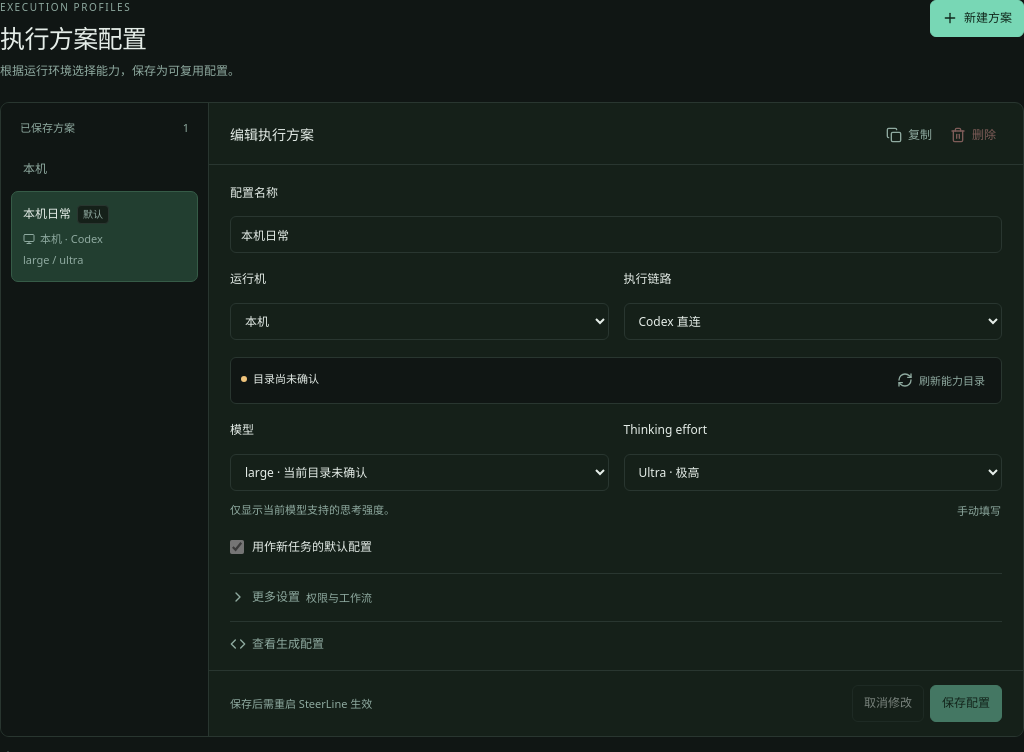
it: edits and saves without dropping advanced values, showing pending restart
Expected: the button "保存配置" is disabled, x1=930 y1=685 x2=1002 y2=722
Replace the text in the field labelled "配置名称" with "已修改" at [616, 235], box x1=230 y1=216 x2=1002 y2=253
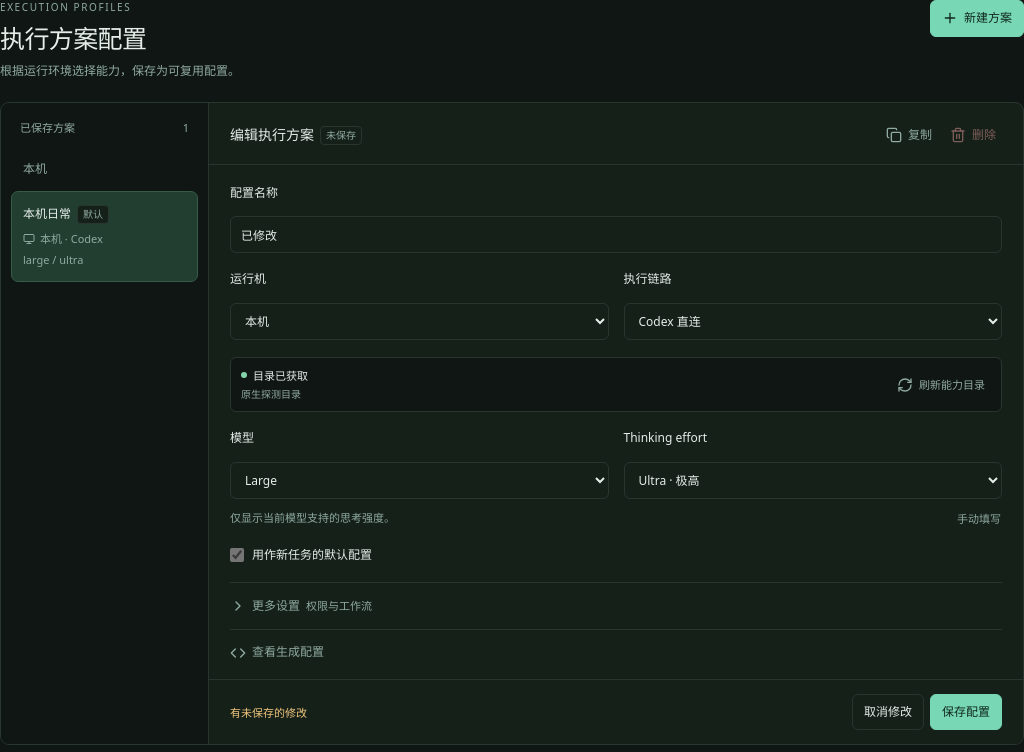
Click the button "保存配置" at [966, 712], box x1=930 y1=694 x2=1002 y2=730
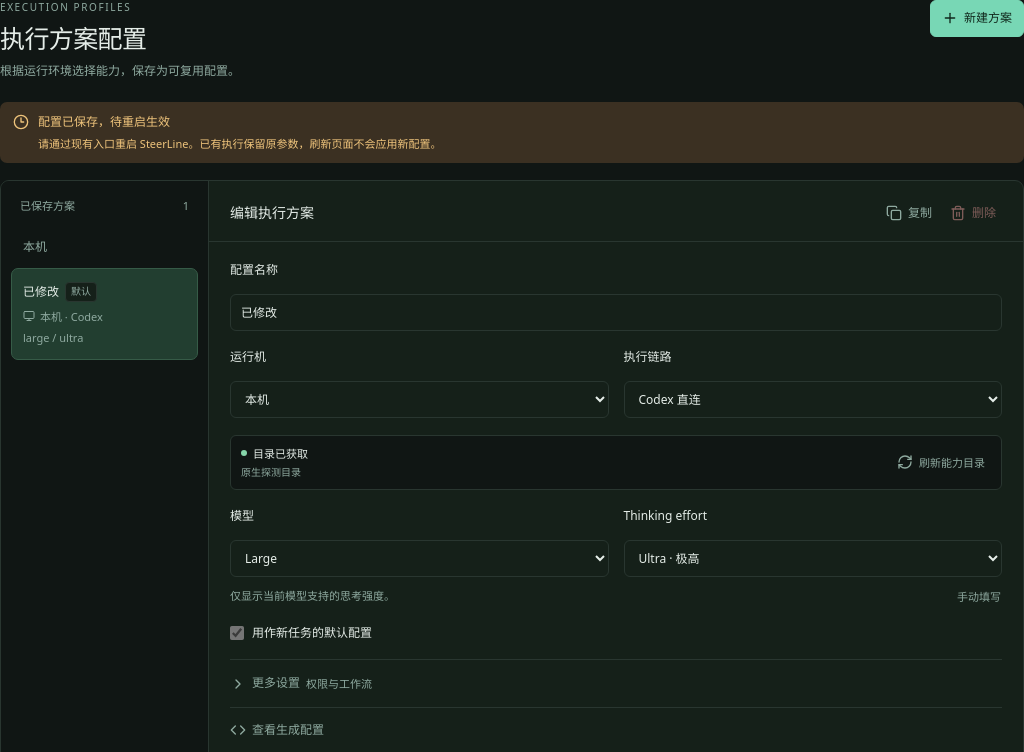
Now the text "配置已保存，待重启生效" is shown, box x1=38 y1=113 x2=170 y2=130
